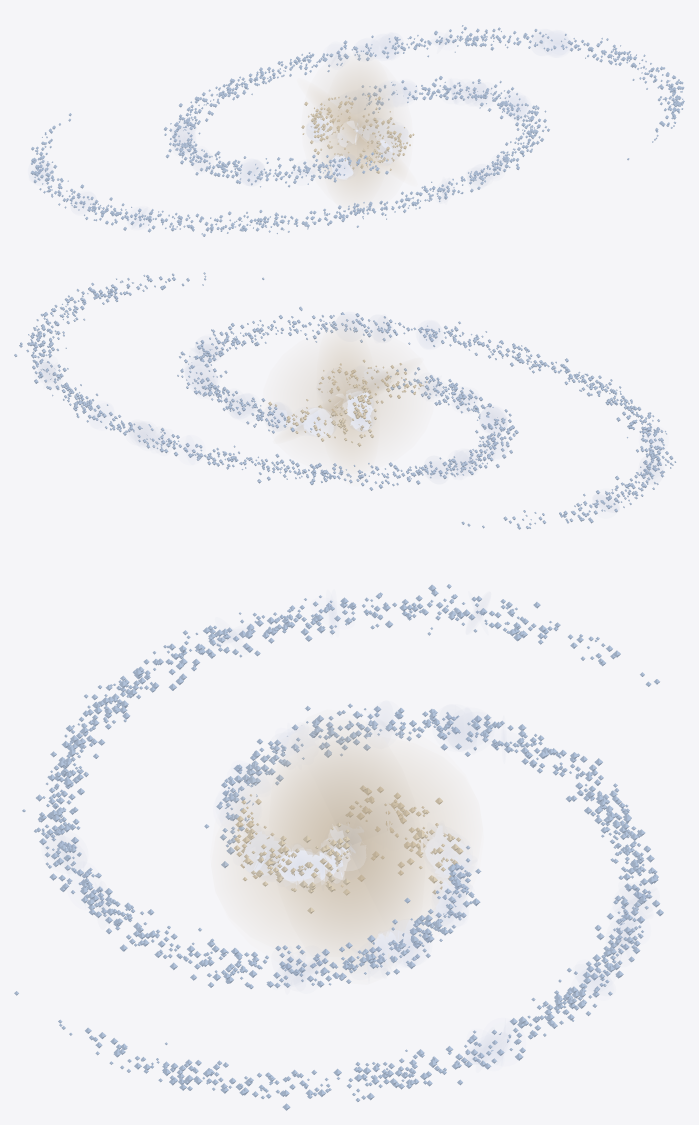
The picture shows the model from 3 angles, top to bottom: view 1: azimuth 30°, elevation 25°; view 2: azimuth 150°, elevation 25°; view 3: azimuth 270°, elevation 25°; orthographic projection. The views are drawn at different scales.
Bounding box in the file's own units: 7.15 × 1.78 × 3.99.
